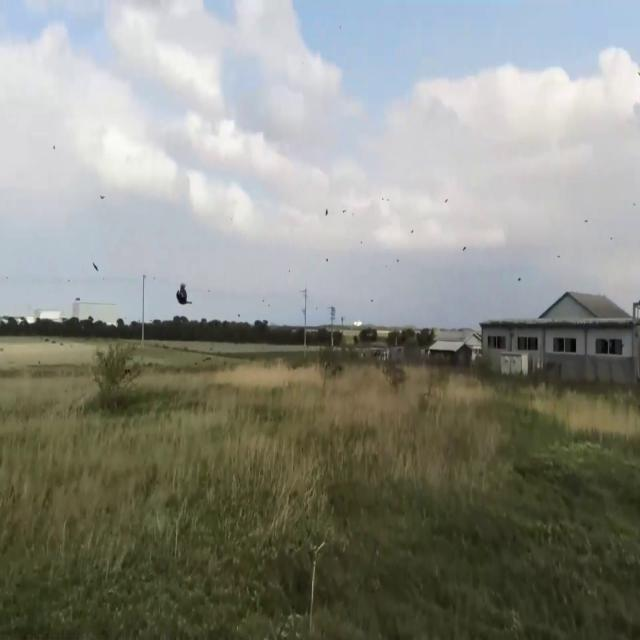bird: (176, 272, 190, 313), (92, 255, 99, 278)
